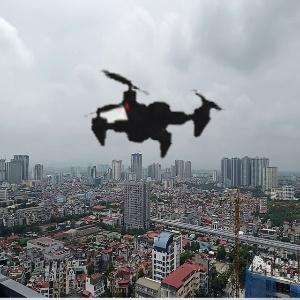drone: (56, 11, 252, 207)
